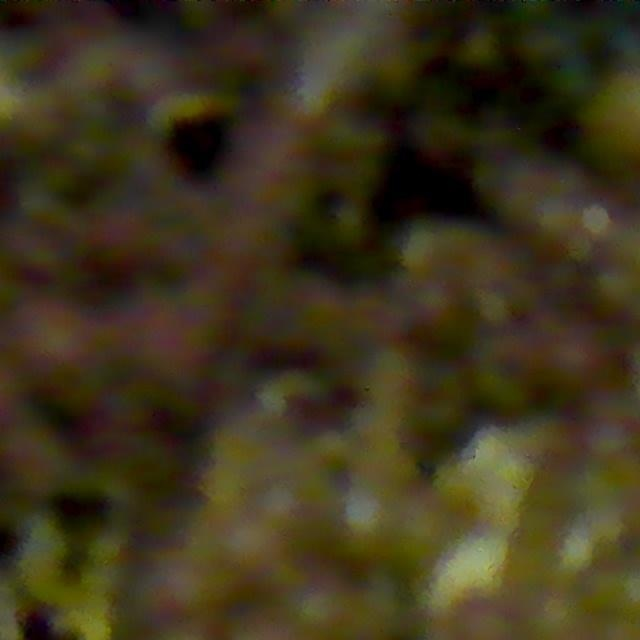SeaGrape: (457, 600, 514, 640)
